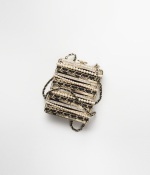channel: (43, 48, 109, 131)
